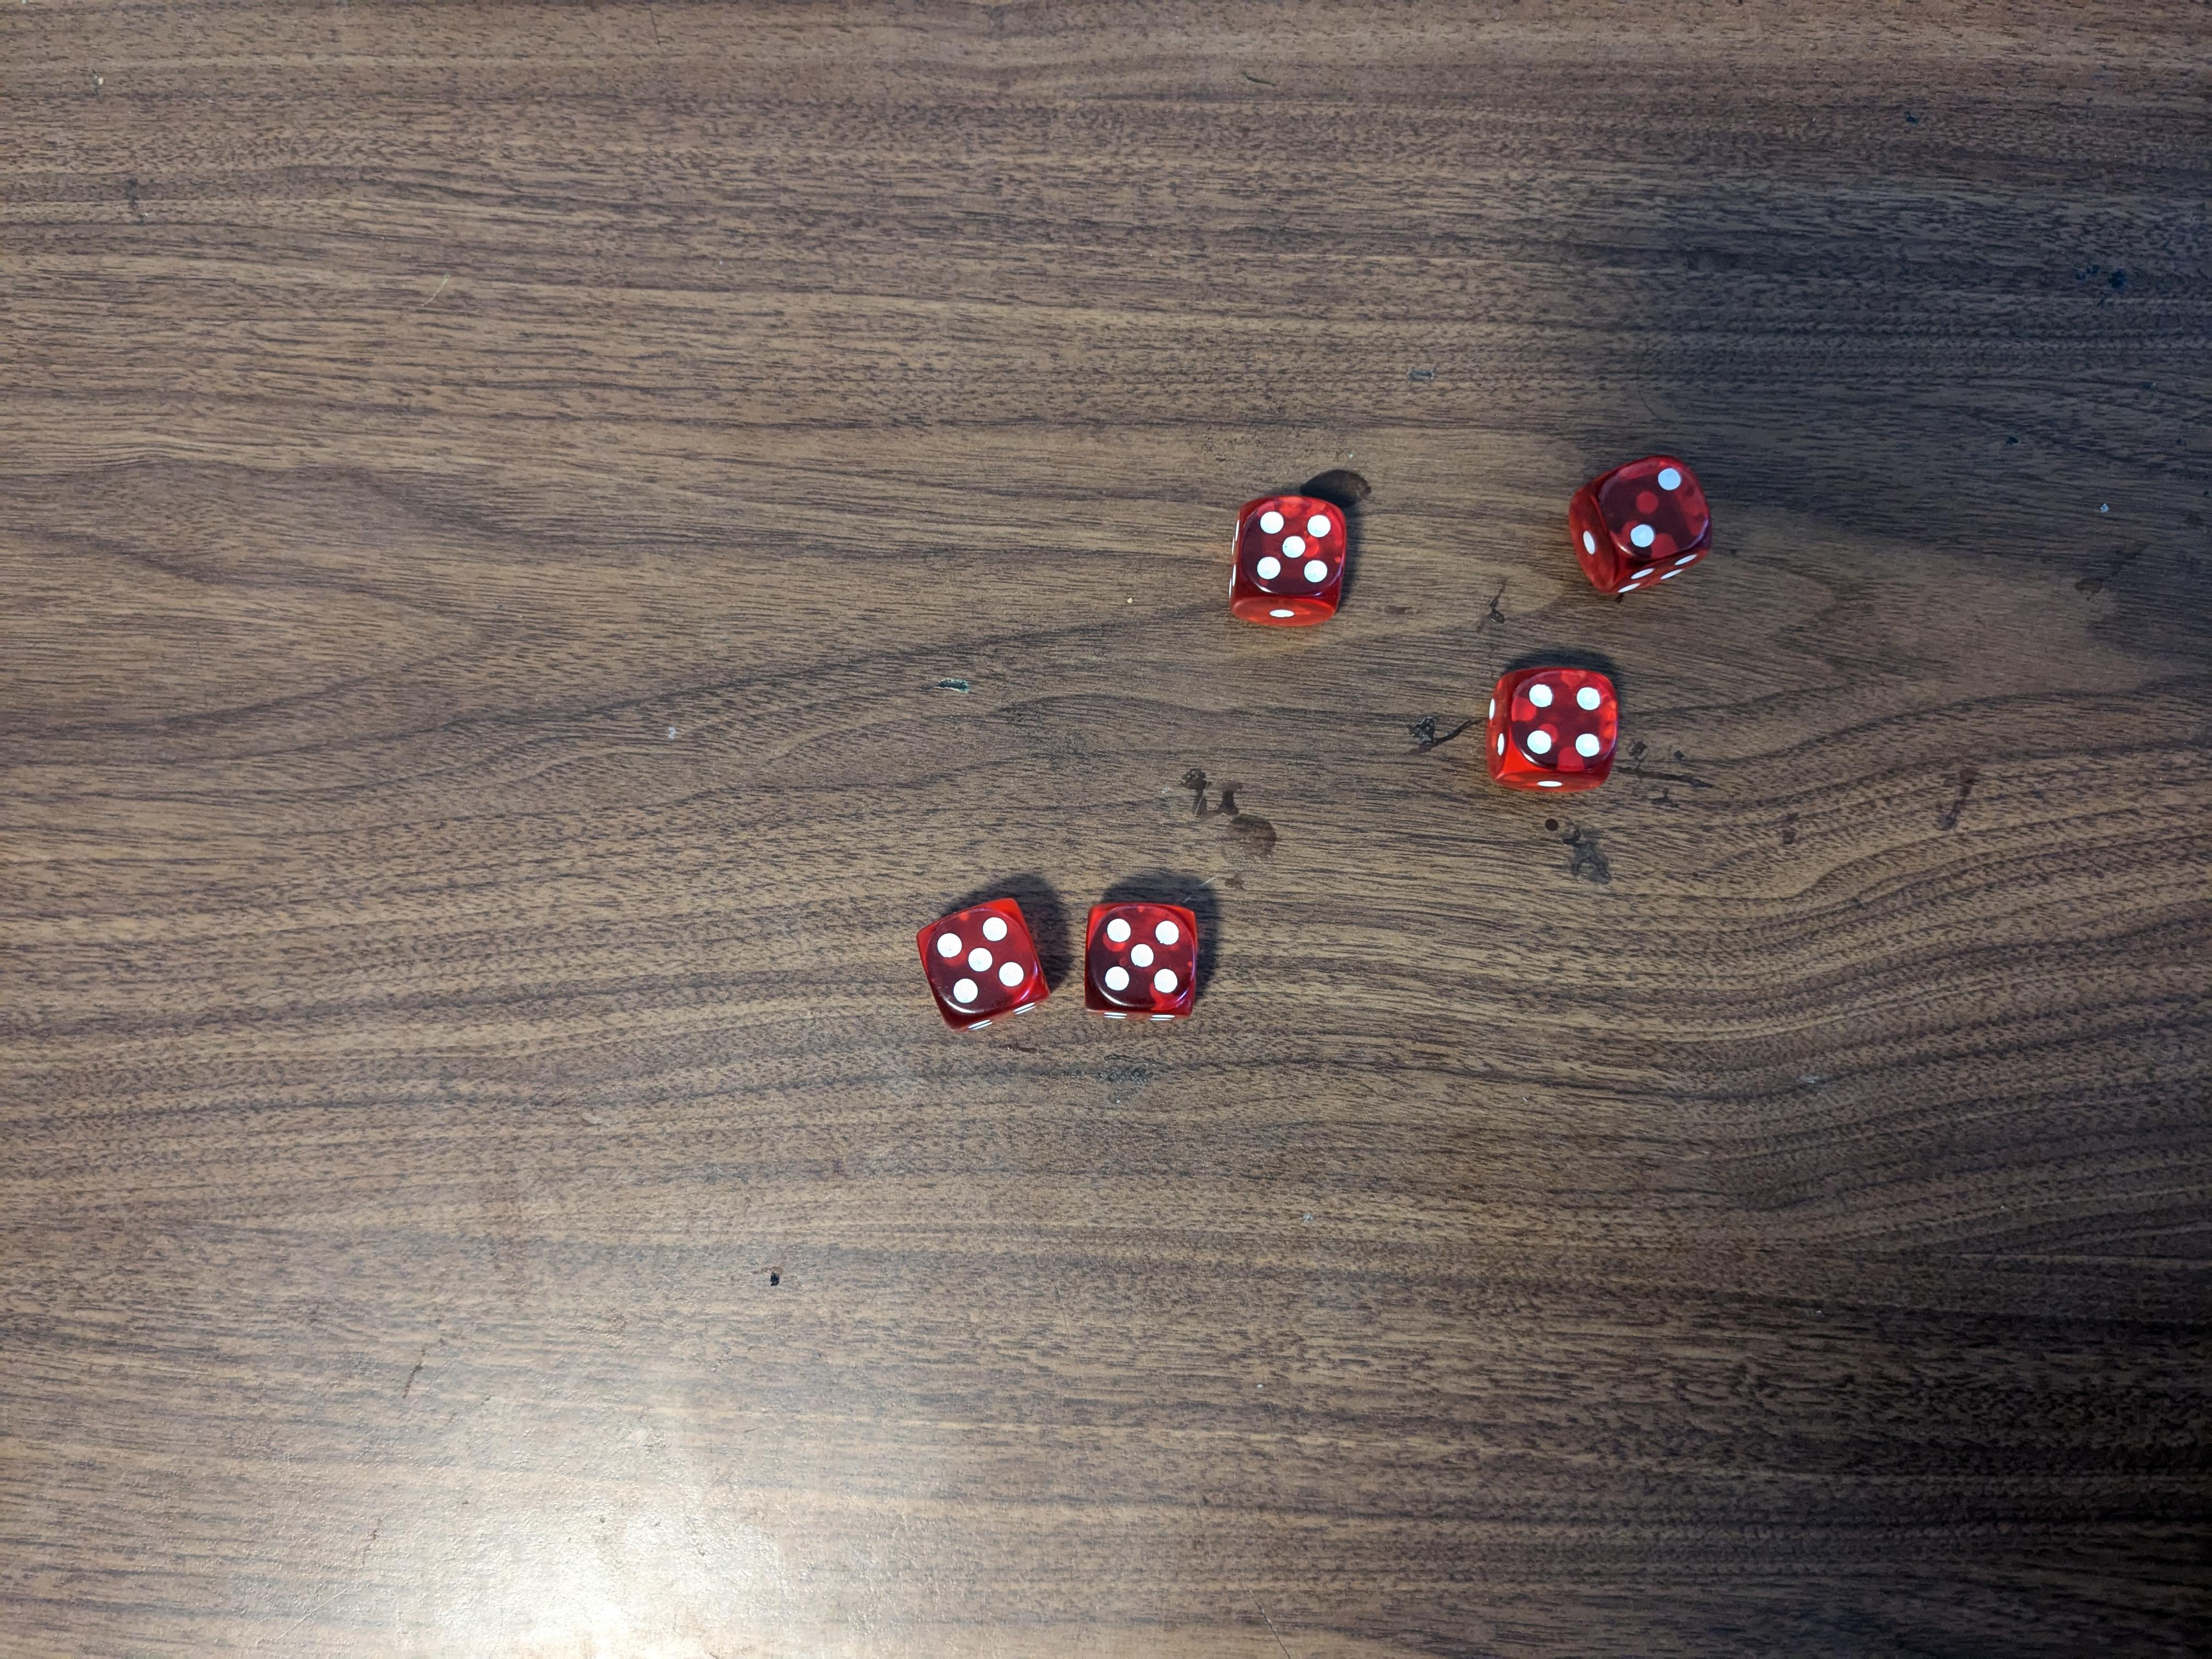five: (914, 896, 1054, 1032), (1224, 493, 1352, 634), (1082, 897, 1198, 1018)
four: (1480, 659, 1622, 793)
two: (1568, 446, 1716, 599)
